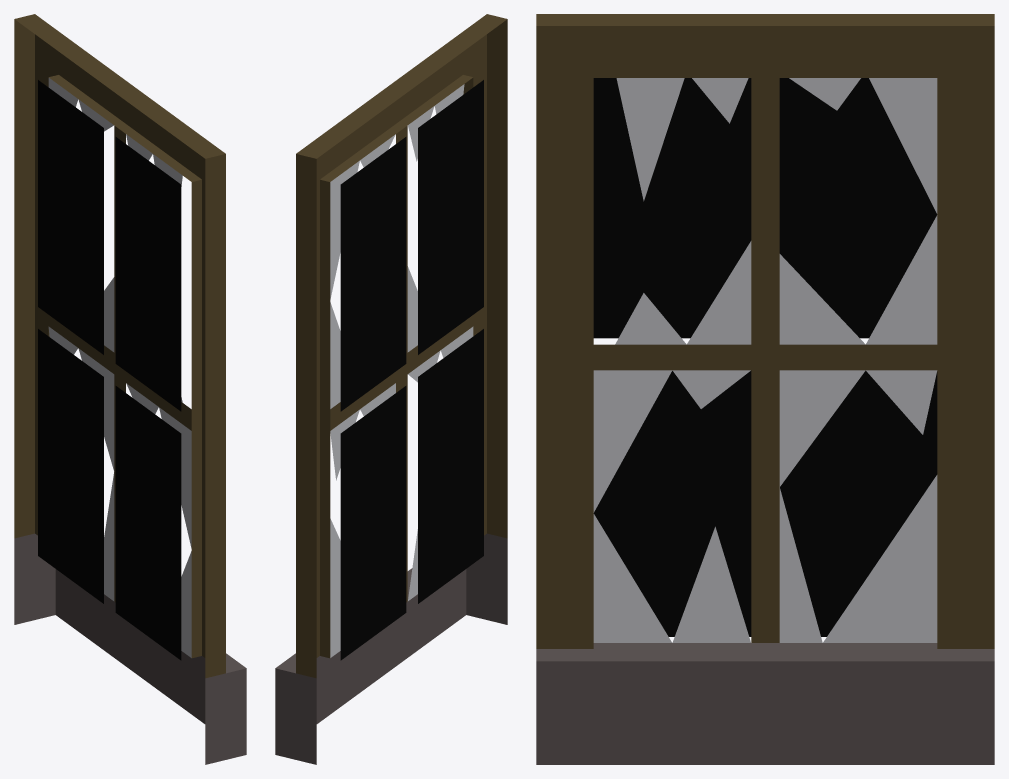
Rendered from obj_smashed_window_0.obj.
The picture shows the model from 3 angles, left to right: view 1: azimuth 30°, elevation 25°; view 2: azimuth 150°, elevation 25°; view 3: azimuth 270°, elevation 25°; orthographic projection. The views are drawn at different scales.
Size of the model in its own units: 0.0625 by 0.875 by 0.5.
